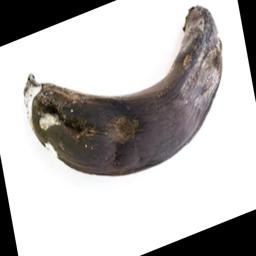Banana Rotten: (10, 3, 246, 184)
